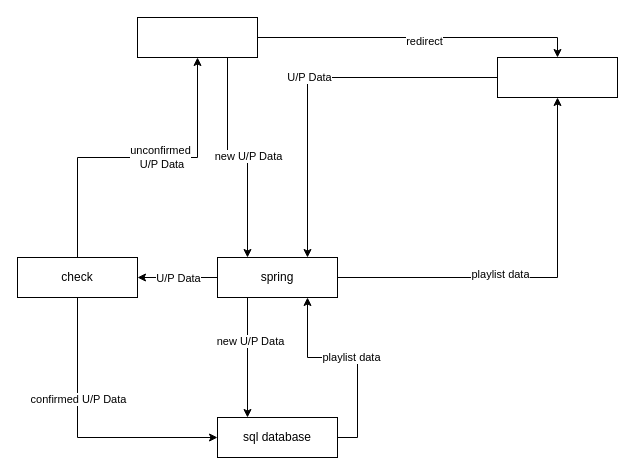
Image size: 635x475. Some labels were removed from this diagram. The centre of each missing label's shape, as x and y in pixels:
"music webpage" belongs at point 557,77.
"user/password creation webpage" belongs at point 197,37.
